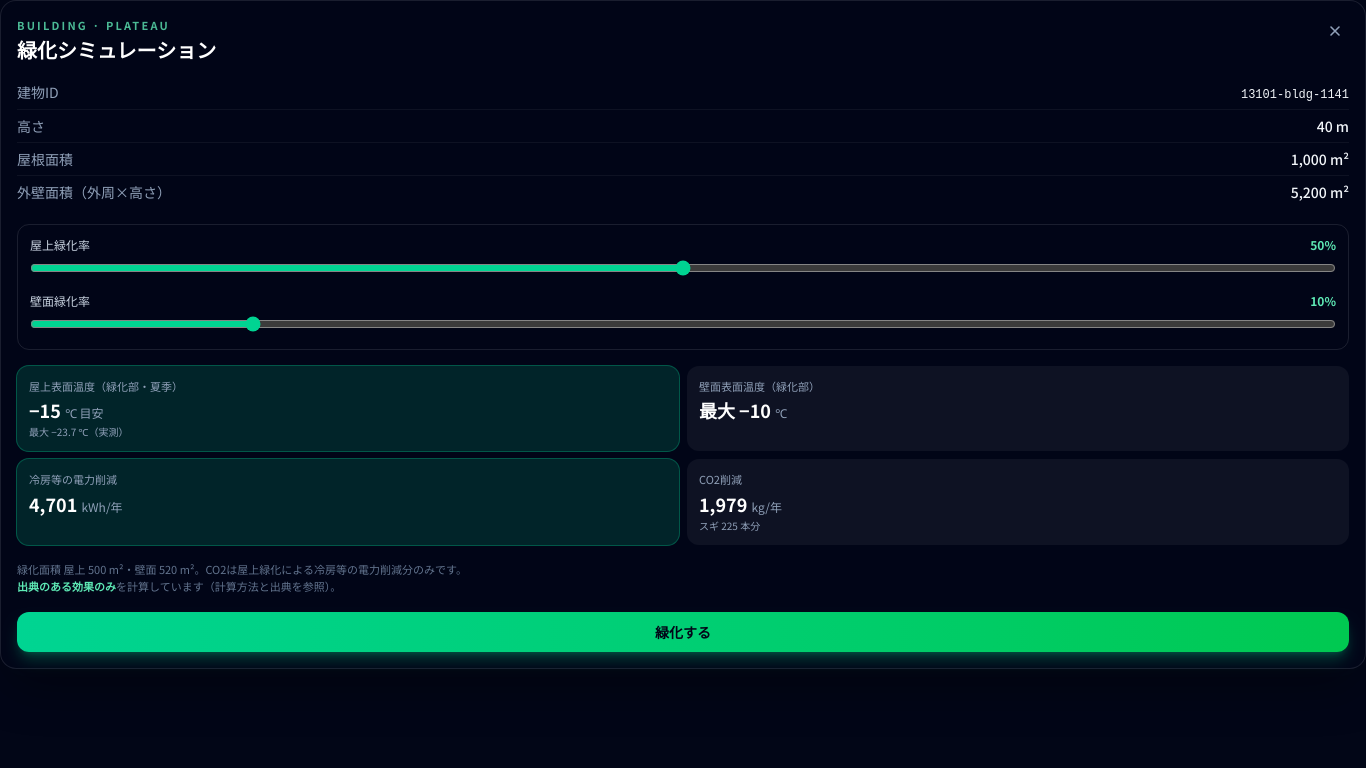
Test: 機能: 詳細サイドバー › シナリオ: 建物を選択して緑化をシミュレーションする › Given 屋上緑化率50% / When スライダーを100%にする / Then 冷房の電力削減が倍になる
This screenshot has width=1366, height=768.
Set the slider labelled "屋上緑化率" to "100" at (1328, 268), box [30,260,1336,276]
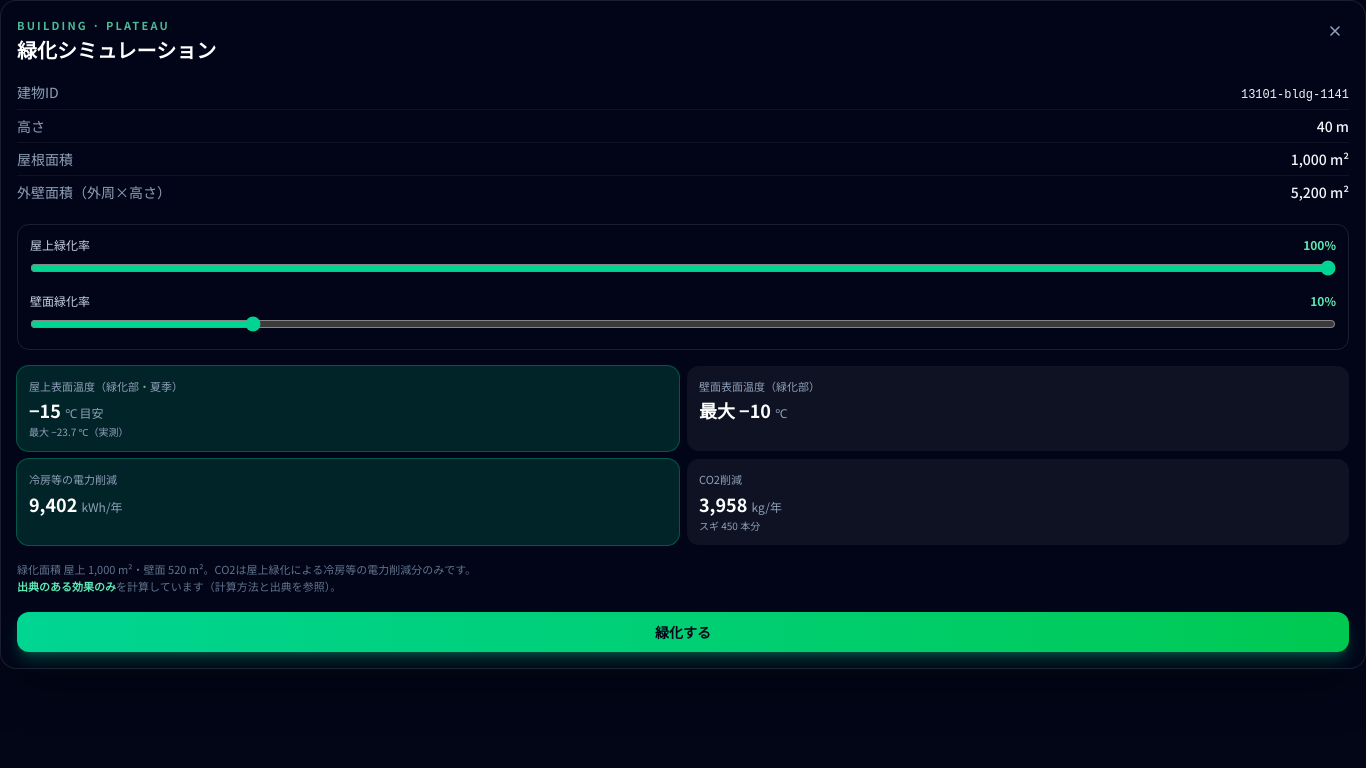
Result: the element with test id "result-cooling" shows "9,402" at [29,490,77,516]
